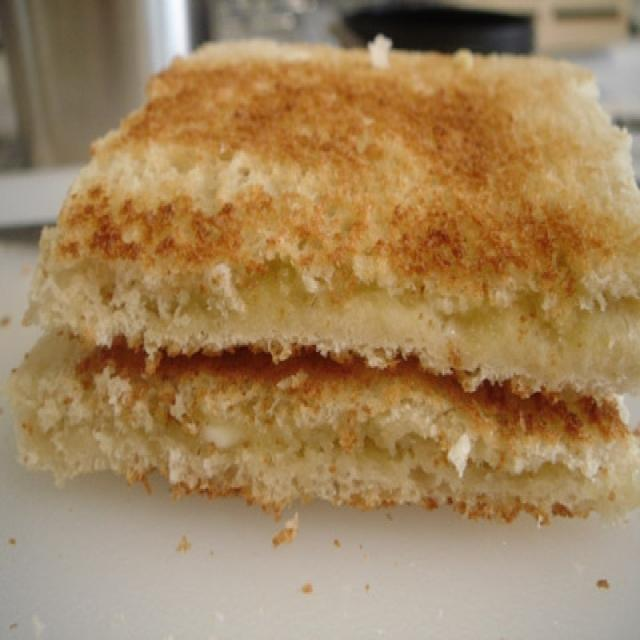面包点心: (21, 23, 632, 562)
